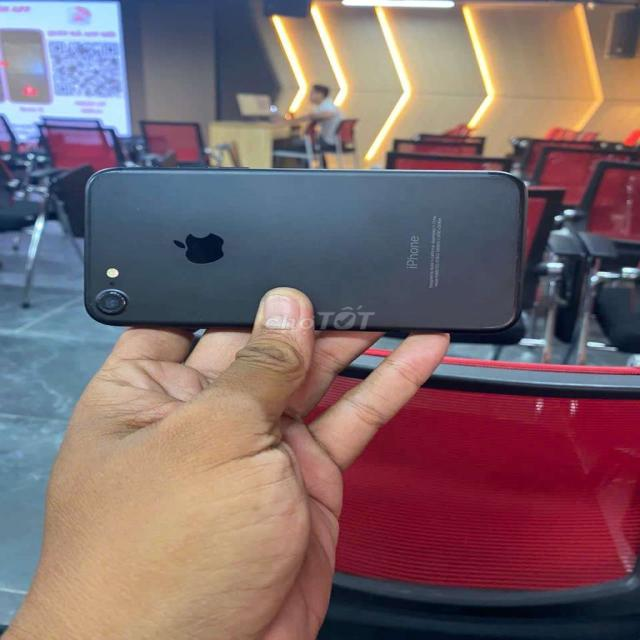gen_7_8: (73, 158, 531, 339)
scratch: (86, 287, 130, 318)
